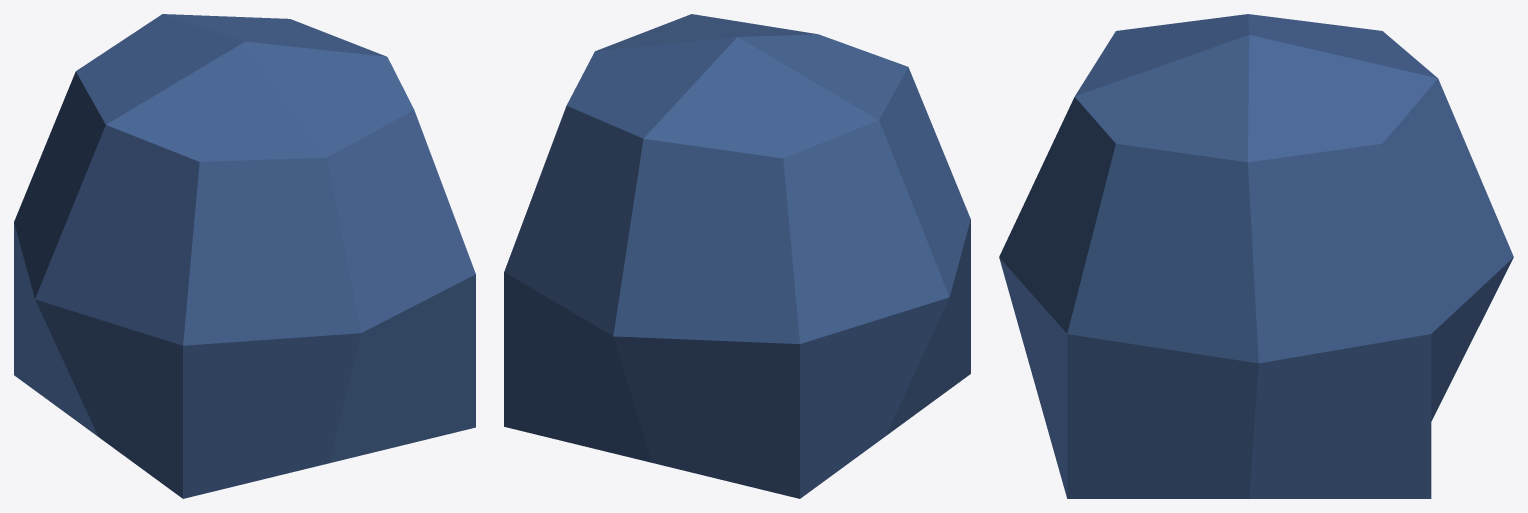
The model's file is tree-winter-leaves-012.glb.
3 renders of one model, left to right at view 1: azimuth 30°, elevation 25°; view 2: azimuth 150°, elevation 25°; view 3: azimuth 270°, elevation 25°, orthographic. The views are drawn at different scales.
Parts seen in each view (by area): view 1: Cube.064_136; view 2: Cube.064_136; view 3: Cube.064_136.
Part boxes in pixels (<box>): Cube.064_136: <box>14,14,475,498</box>; Cube.064_136: <box>504,14,970,498</box>; Cube.064_136: <box>999,14,1513,498</box>.
Bounding box in the file's own units: 0.7027 × 0.6085 × 0.7332.
